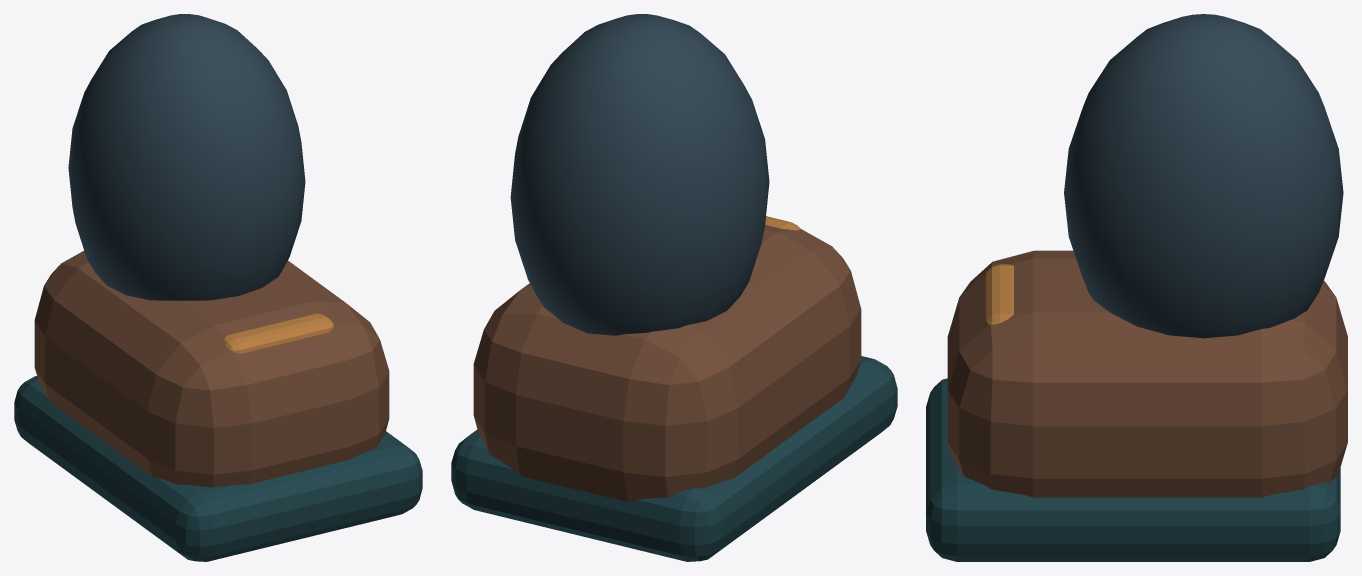
File: courier_boot.glb
The picture shows the model from 3 angles, left to right: view 1: azimuth 30°, elevation 25°; view 2: azimuth 150°, elevation 25°; view 3: azimuth 270°, elevation 25°; orthographic projection. The views are drawn at different scales.
Visible parts, largest first — view 1: body_704D39, body_314653, body_21454C, body_B57B3F; view 2: body_314653, body_704D39, body_21454C; view 3: body_704D39, body_314653, body_21454C, body_B57B3F.
Part boxes in pixels (box(x1,y1,x2,y2)): body_704D39: box(34, 251, 389, 487); body_314653: box(68, 14, 305, 300); body_21454C: box(14, 376, 422, 561); body_B57B3F: box(224, 313, 333, 353); body_314653: box(510, 14, 769, 335); body_704D39: box(473, 225, 861, 502); body_21454C: box(451, 356, 897, 561); body_704D39: box(947, 250, 1347, 497); body_314653: box(1064, 14, 1343, 338); body_21454C: box(926, 378, 1340, 561); body_B57B3F: box(985, 264, 1013, 325).
Size of the model in its own units: 0.325 by 0.5535 by 0.4375.
